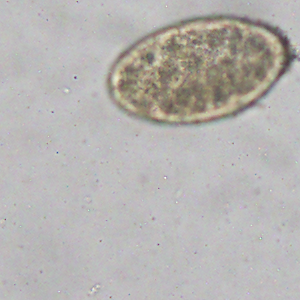Fasciola_hepatica_egg: (105, 13, 294, 126)
